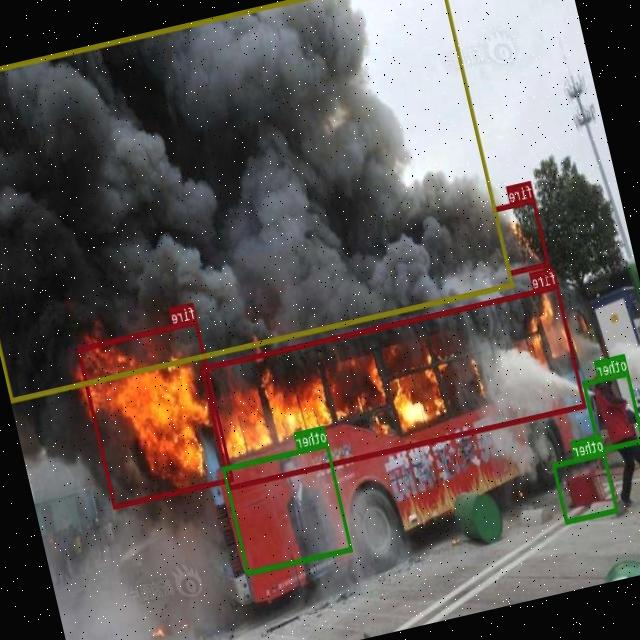fire: (200, 282, 586, 488), (76, 318, 235, 508), (492, 196, 550, 274)
smoke: (0, 0, 515, 400)
